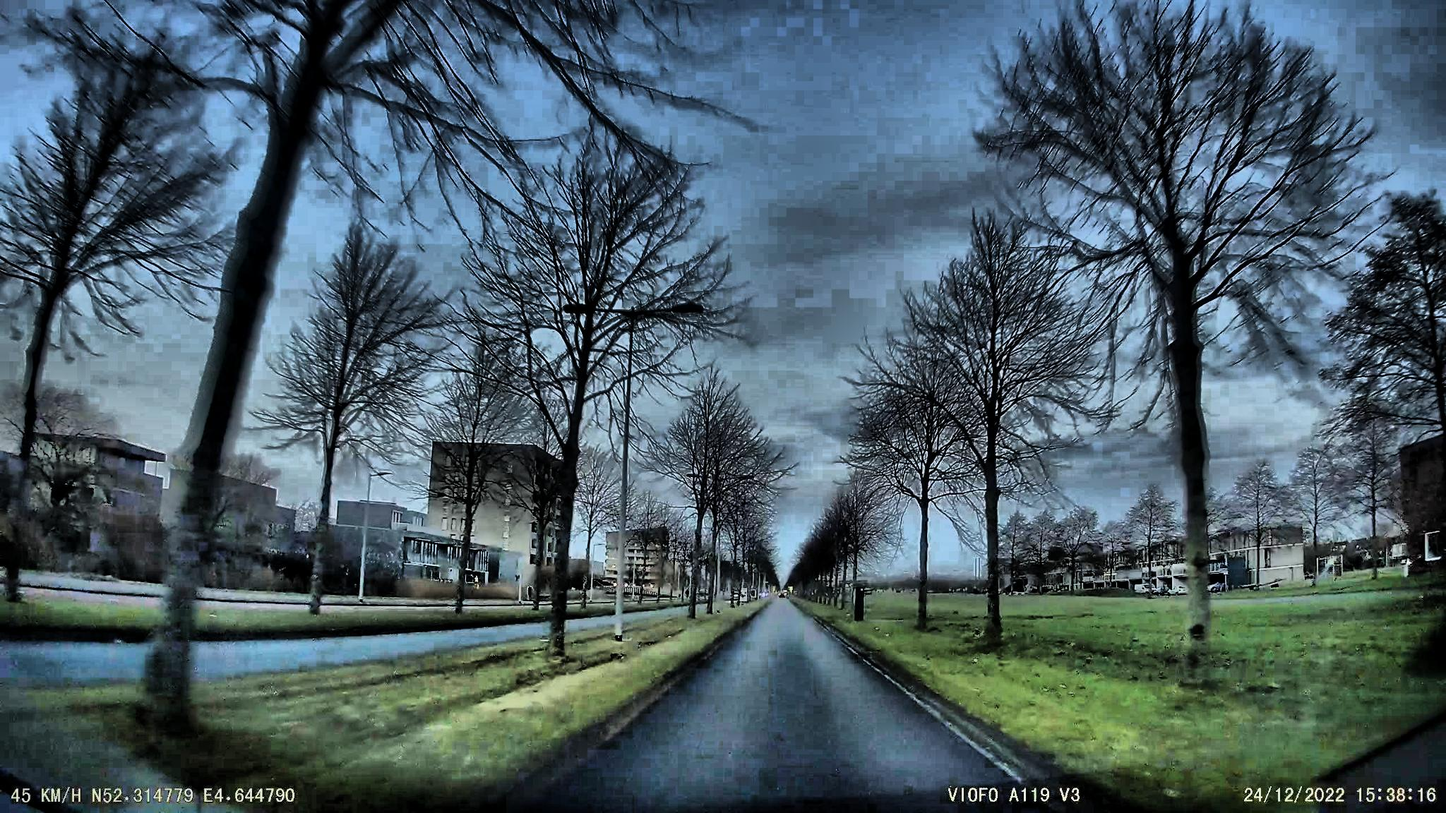Roads: (485, 600, 1144, 813)
